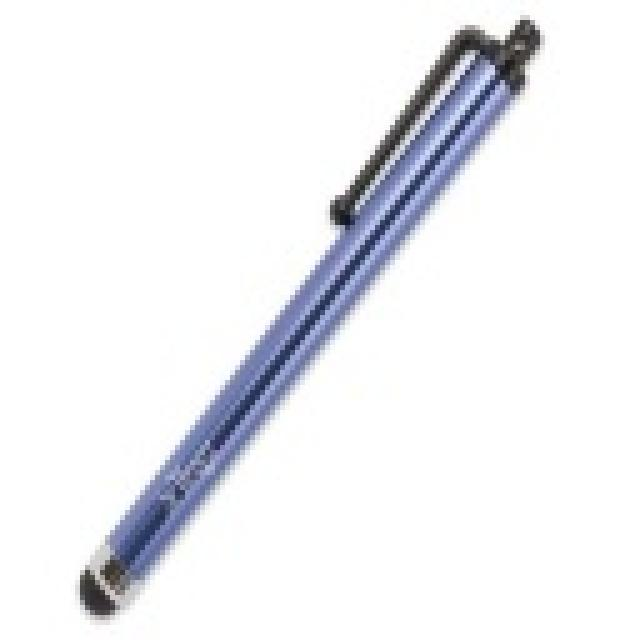pen: (78, 18, 549, 621)
